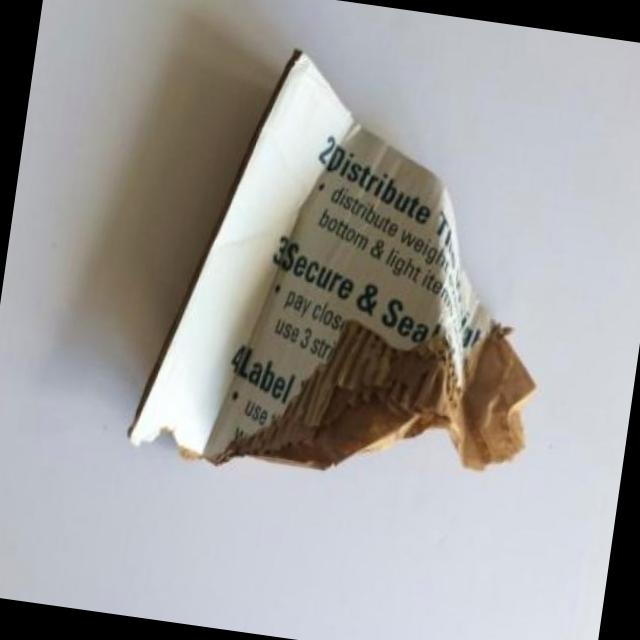cardboard paper: (130, 54, 535, 471)
